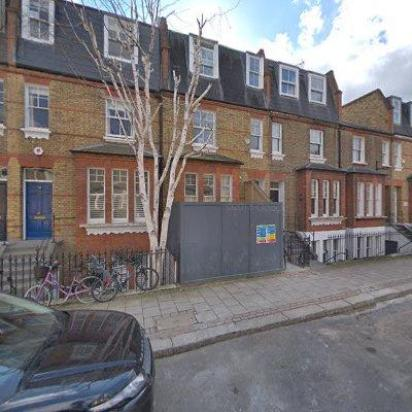stationary-bicycle-onstreet: (24, 260, 100, 306), (91, 254, 160, 302)
stationary-car-onstreet: (0, 297, 154, 411)
